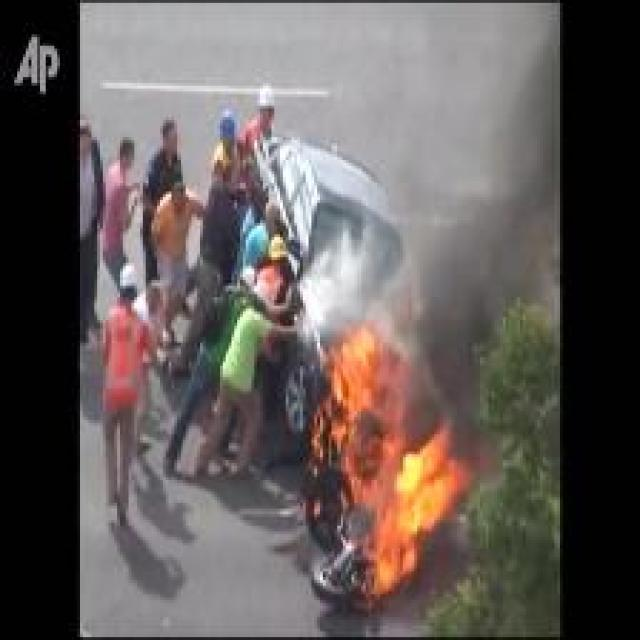Fire: (310, 320, 473, 597)
